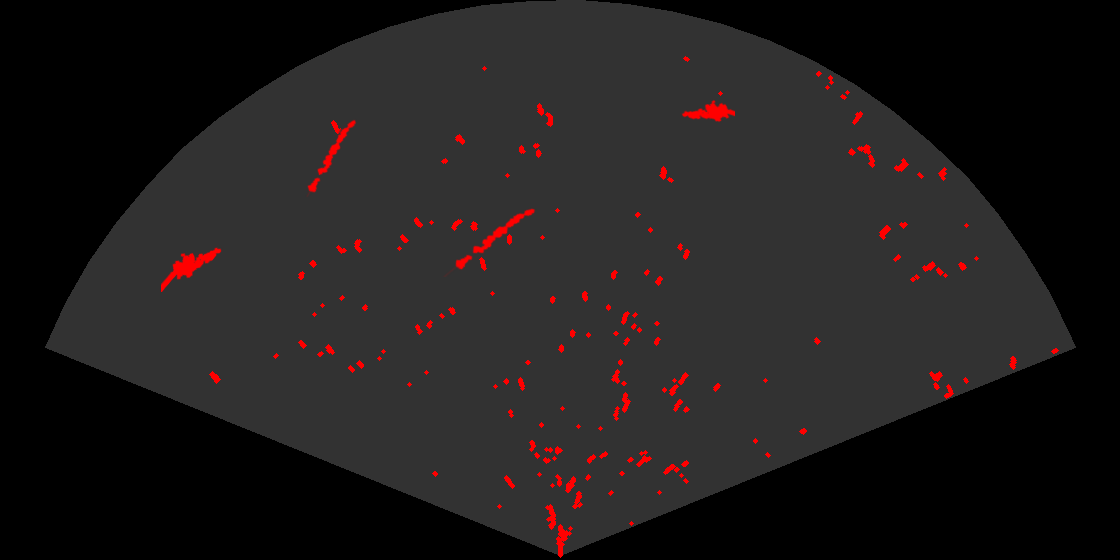chain: (442, 207, 537, 277), (305, 118, 358, 197)
frogman: (161, 246, 223, 292), (680, 98, 735, 124)
